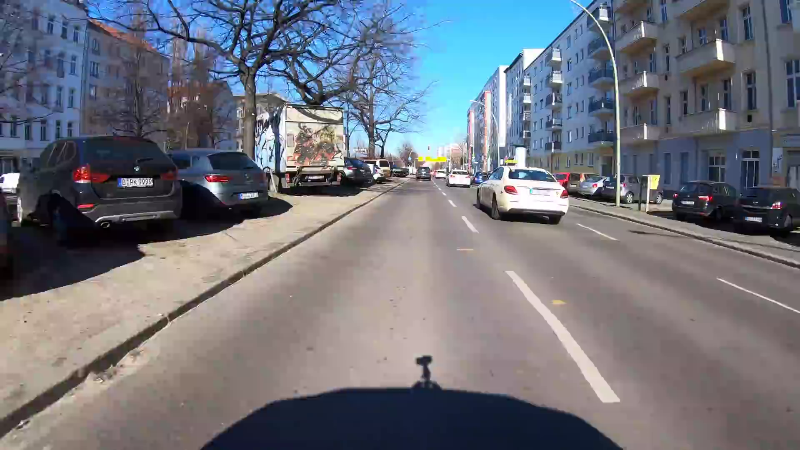Plate: (114, 175, 155, 190), (527, 186, 552, 196), (238, 189, 259, 199)
